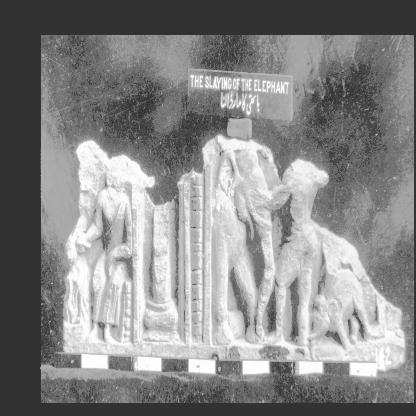buddha-standing: (275, 145, 319, 354)
